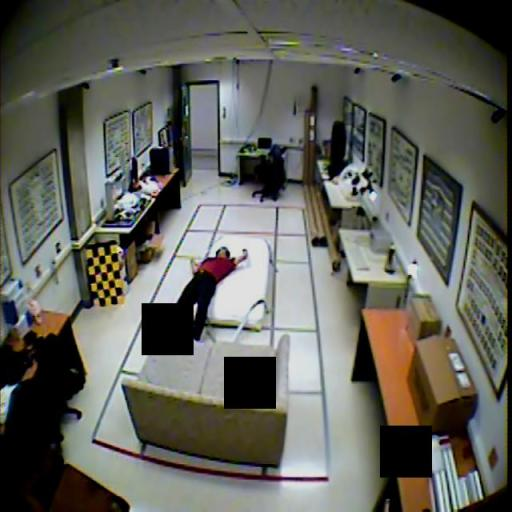Fall: (150, 244, 249, 342)
